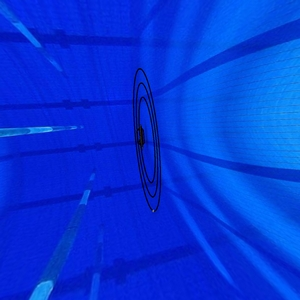circle: (127, 67, 173, 217)
submarine: (136, 124, 150, 149)
